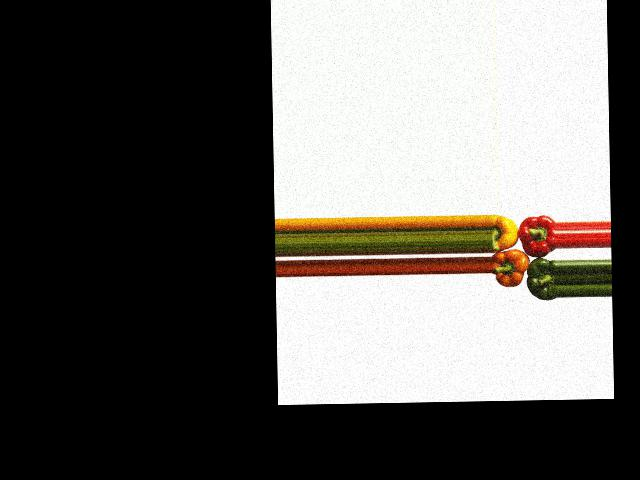bell_pepper: (490, 213, 520, 254)
